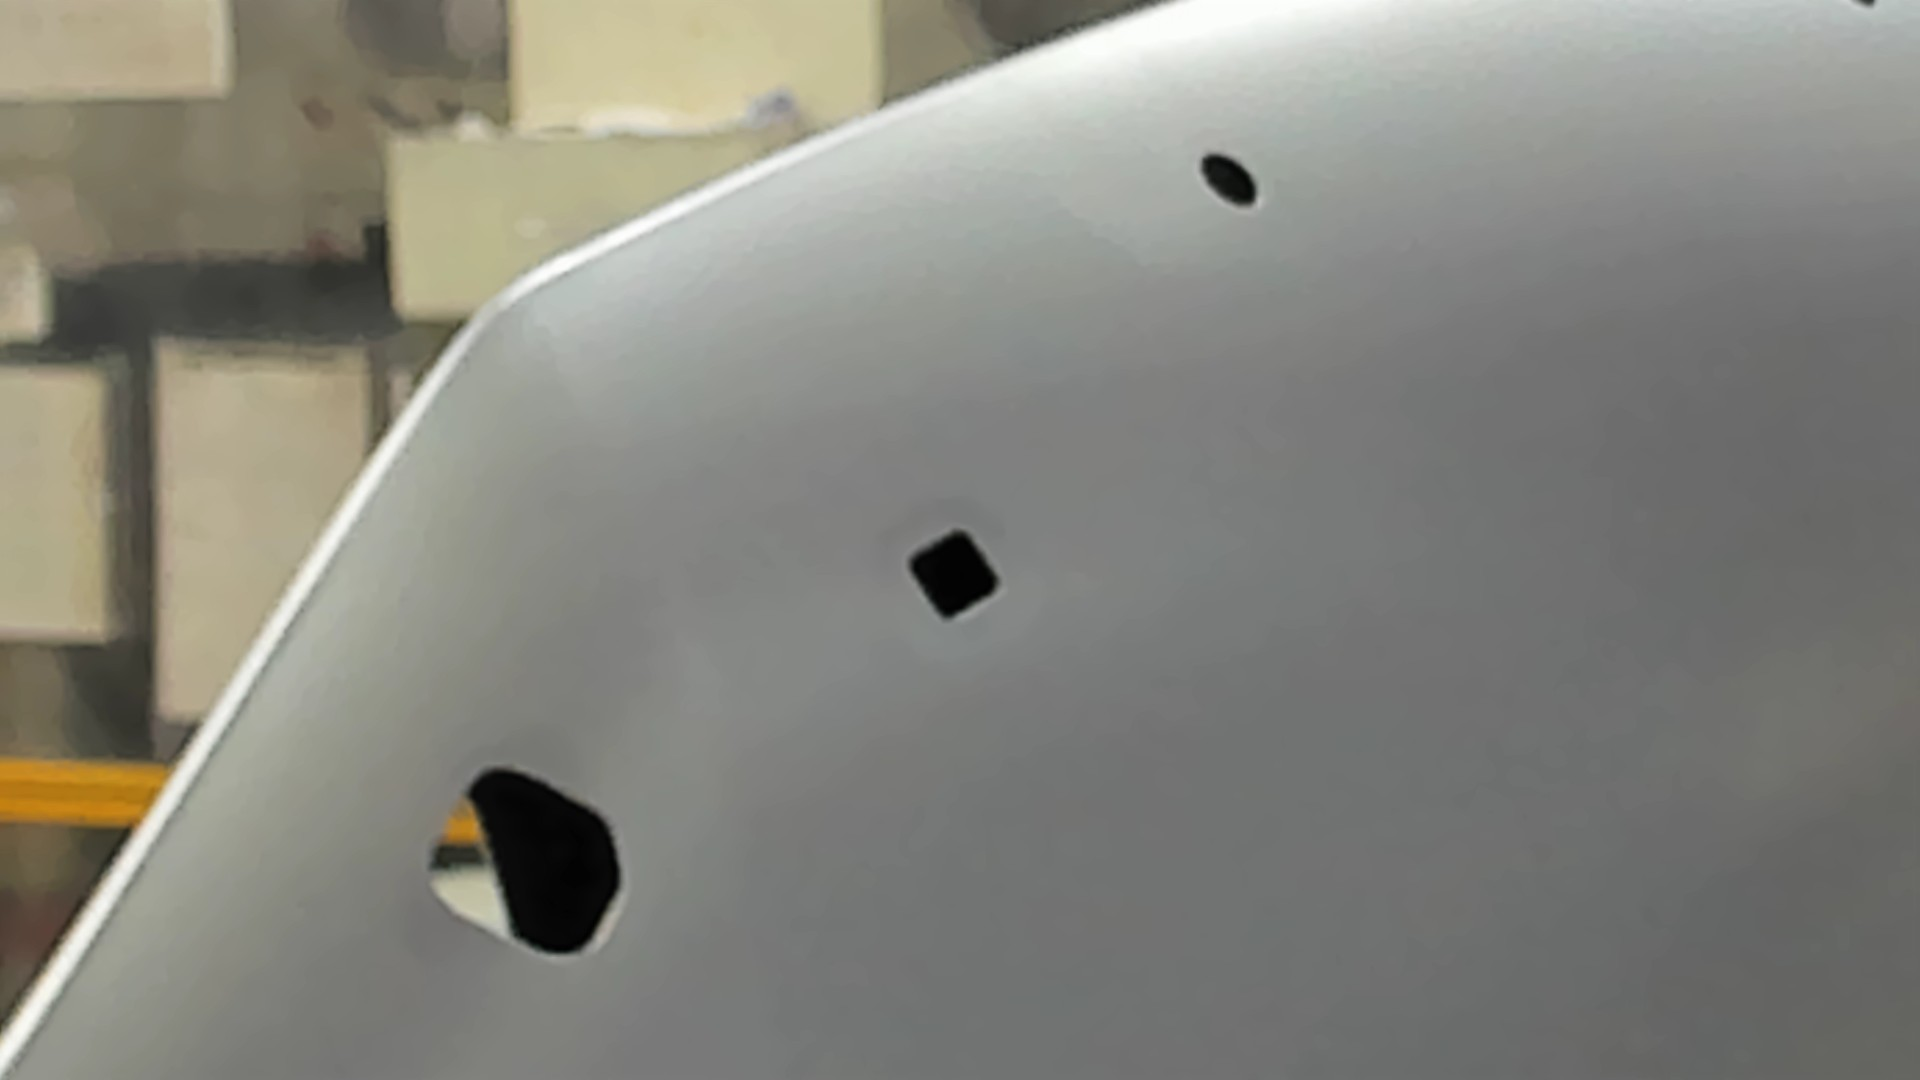chico: (1196, 149, 1261, 211)
grande: (421, 764, 629, 965)
mediano: (906, 527, 1002, 624)
